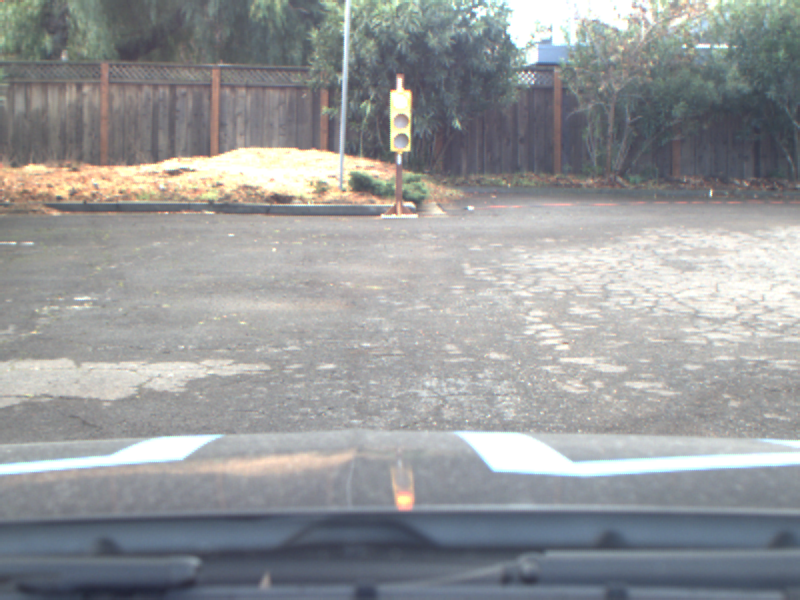Red: (388, 89, 411, 152)
